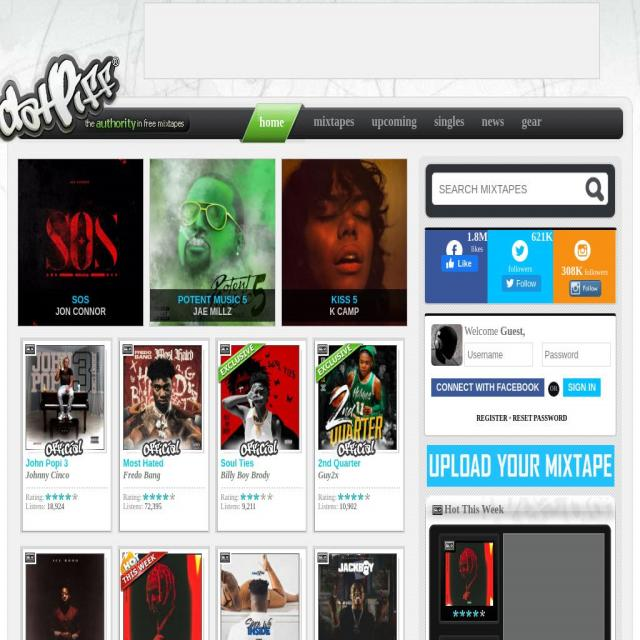login-option: (562, 380, 602, 398)
navigation-blocks: (22, 155, 398, 640)
navigation-links: (255, 107, 547, 138)
search: (425, 162, 615, 218)
sign-up-form: (424, 315, 618, 485)
